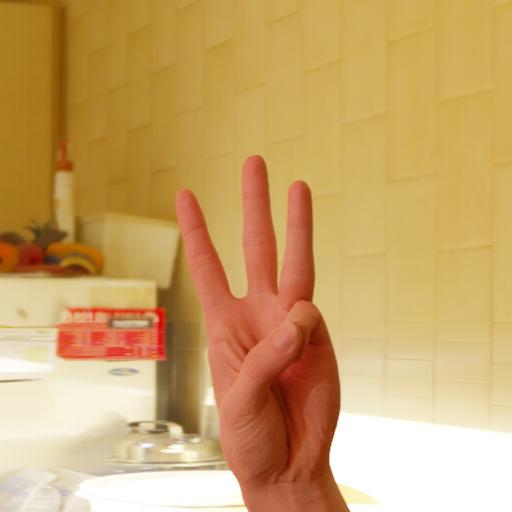W: (165, 151, 365, 502)
